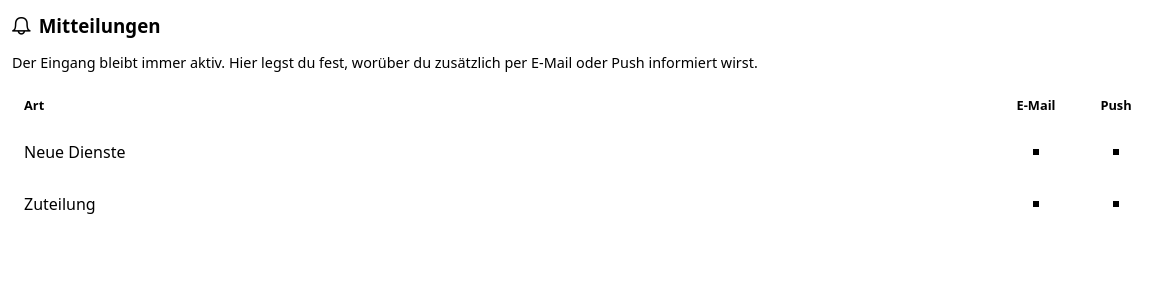
Scenario: NotificationPreferences › reverts and shows an error when saving fails
The image size is (1164, 286).
What coordinates should you click on to do the following:
click the switch named "E-Mail für Neue Dienste"
I would click on:
 (1036, 152)
Its box is [1033, 149, 1039, 155].
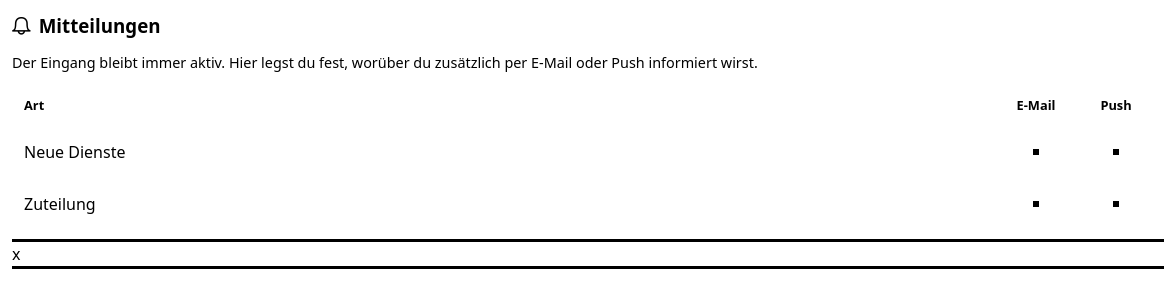
Check: the message "x" is shown, box [12, 243, 20, 265]
